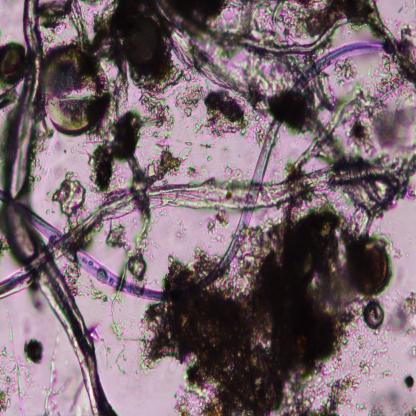Background material: (139, 197, 354, 410), (86, 90, 178, 193), (285, 330, 389, 414), (227, 0, 335, 41), (128, 65, 201, 122), (0, 316, 34, 413), (202, 88, 252, 142), (146, 142, 206, 180), (161, 247, 215, 284), (361, 379, 416, 415), (50, 175, 87, 224), (382, 291, 416, 340), (119, 1, 183, 26), (196, 203, 232, 243), (21, 336, 45, 367), (403, 374, 415, 391)
Cellulose filter fibre: (0, 157, 408, 298), (0, 1, 120, 416), (176, 0, 416, 80)
Diatom: (39, 40, 111, 140), (350, 236, 392, 296), (124, 16, 166, 66), (0, 40, 28, 82), (364, 300, 384, 330)
Microfibre: (0, 39, 390, 300)
